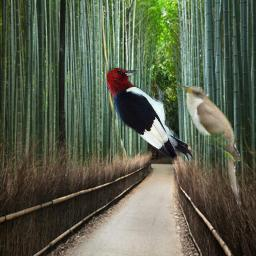Cuckoo: (177, 82, 244, 206)
Woodpecker: (107, 67, 197, 164)
